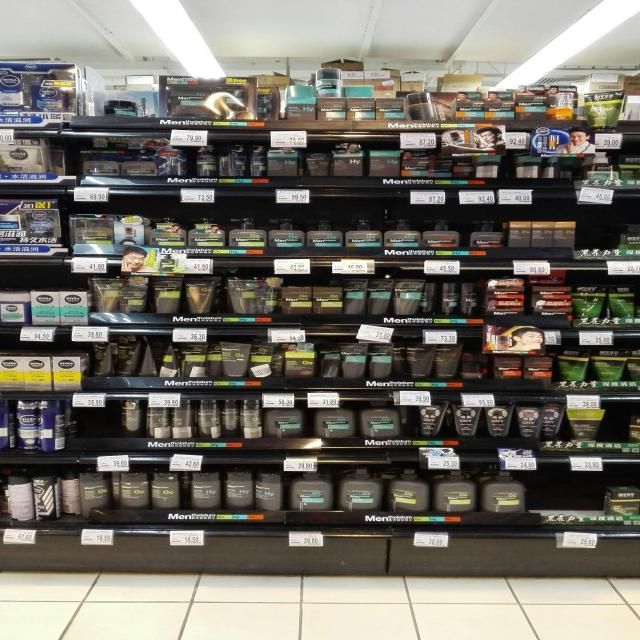empty: (526, 469, 605, 511), (578, 210, 622, 251), (83, 408, 120, 437), (606, 407, 627, 441)
